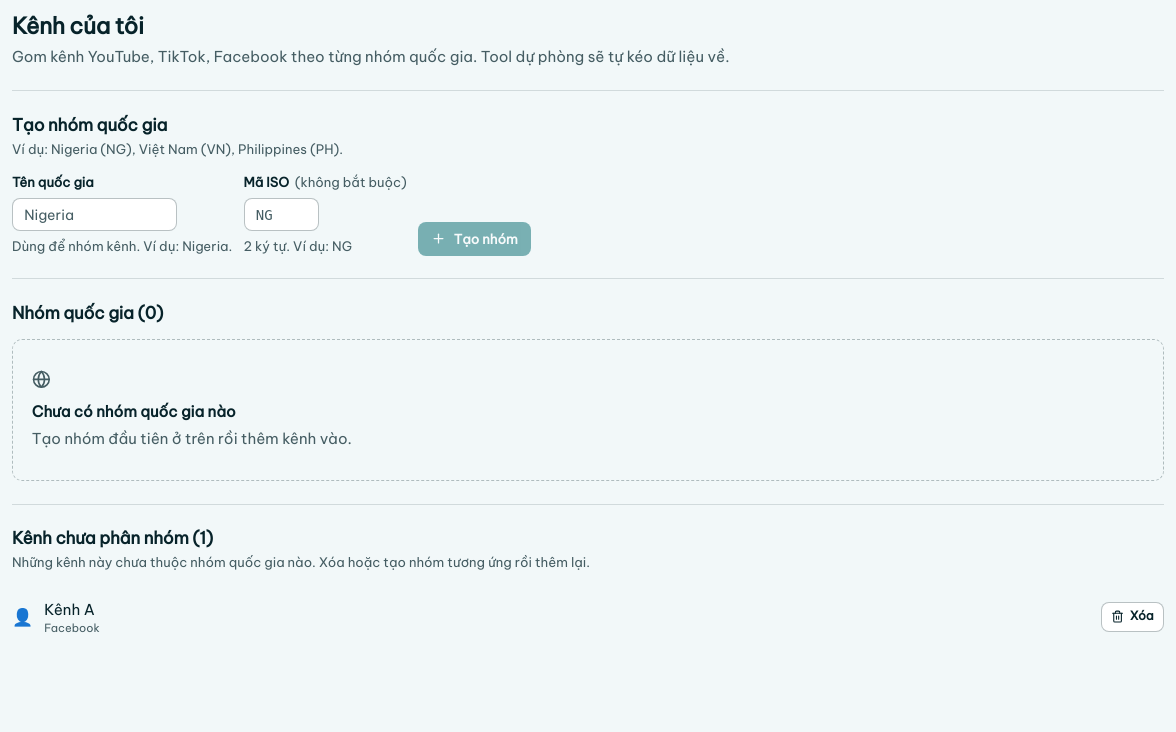
ChannelsPage — Nhóm quốc gia + kênh (capability:manual_channel_mgmt) › xóa kênh chưa phân nhóm: gọi DELETE đúng id, bỏ khỏi giao diện
Expected: the text "Kênh A" is shown, x1=44 y1=600 x2=95 y2=619
Click the button with aria-label "Xóa kênh Kênh A".
click(1132, 617)  # box x1=1100 y1=602 x2=1164 y2=632
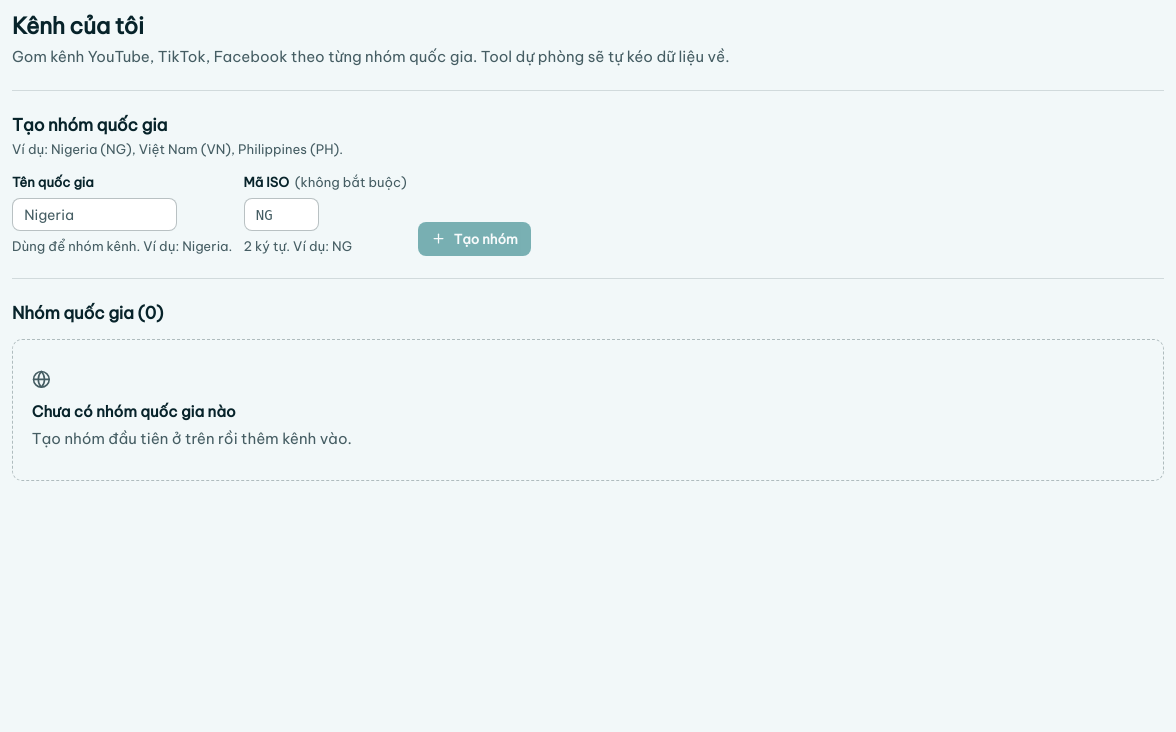
Now the text "Kênh A" is gone
Now the heading "Kênh chưa phân nhóm" is gone
